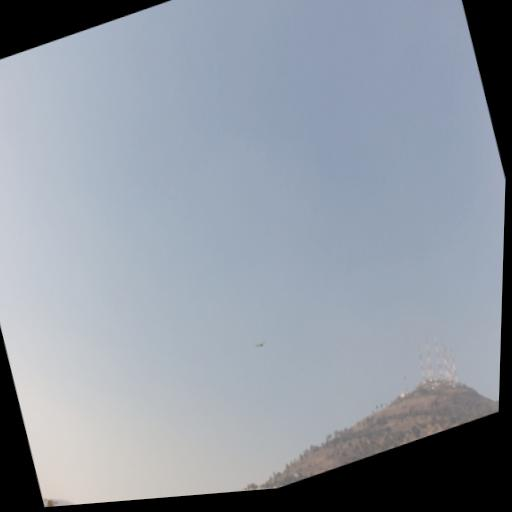drones: (253, 337, 268, 351)
